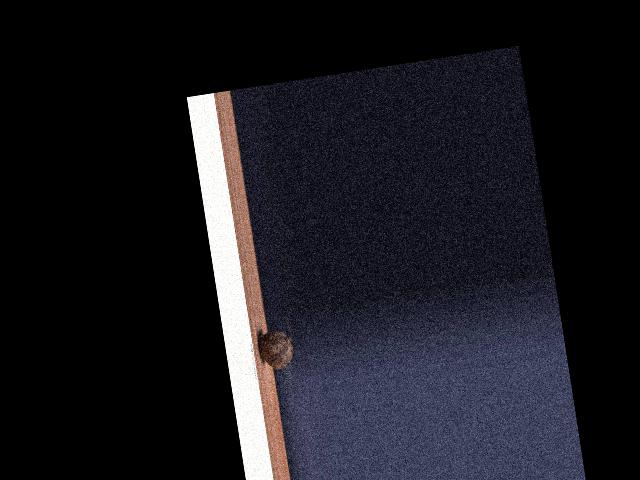beet: (255, 316, 296, 371)
